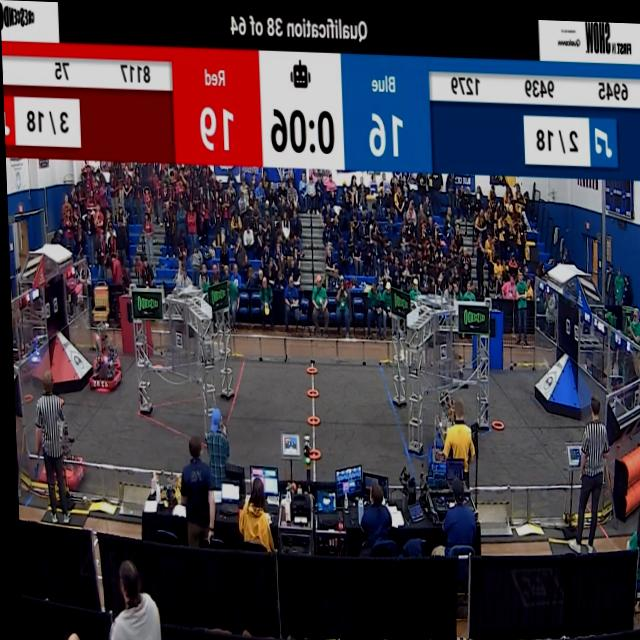Robot: (29, 394, 84, 498), (82, 316, 121, 401), (427, 329, 465, 387), (87, 323, 124, 377), (424, 419, 443, 478)
